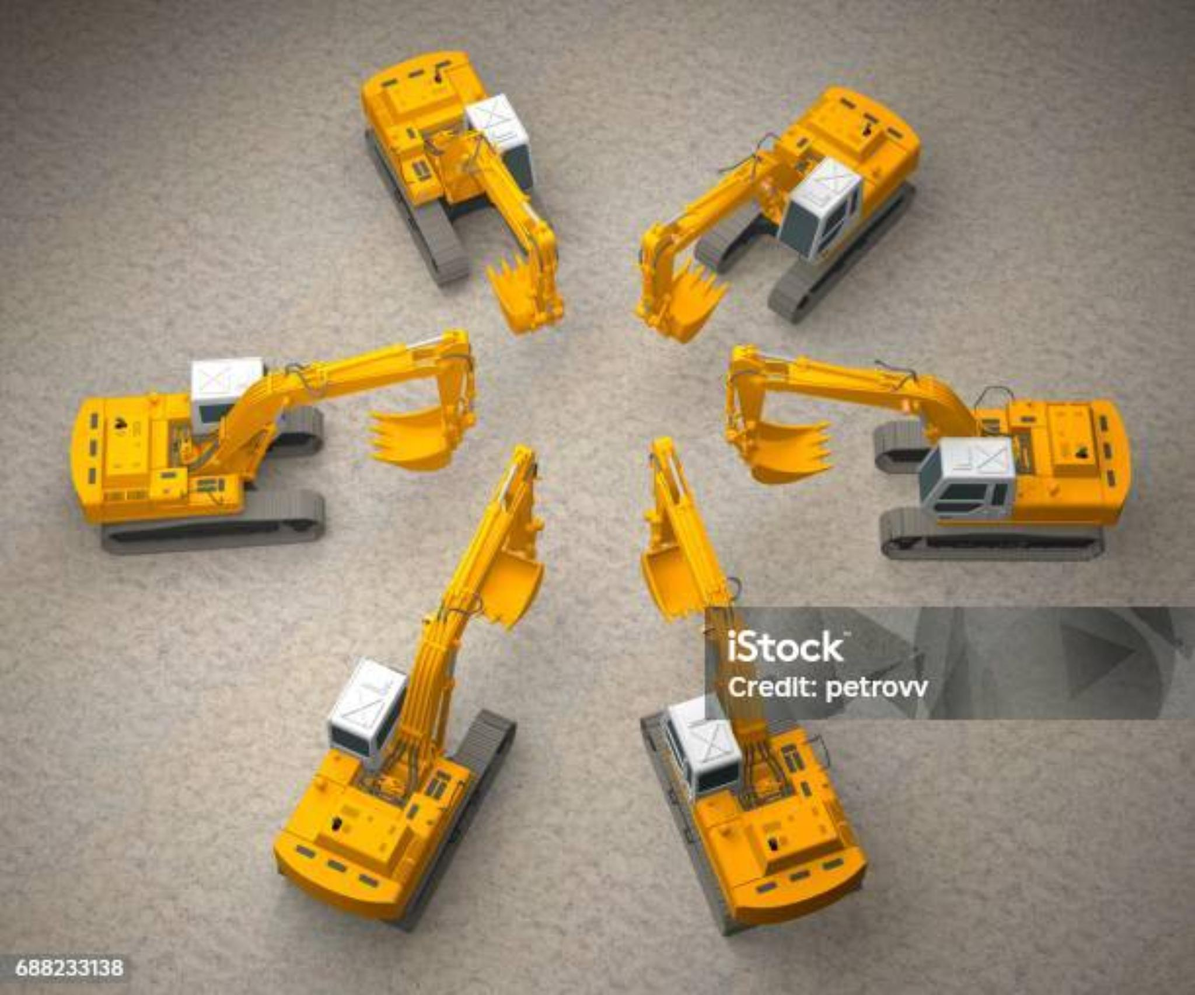excavator: (275, 449, 535, 923), (640, 439, 865, 933), (726, 347, 1129, 552), (68, 332, 473, 535), (637, 88, 920, 340), (361, 51, 553, 285)
